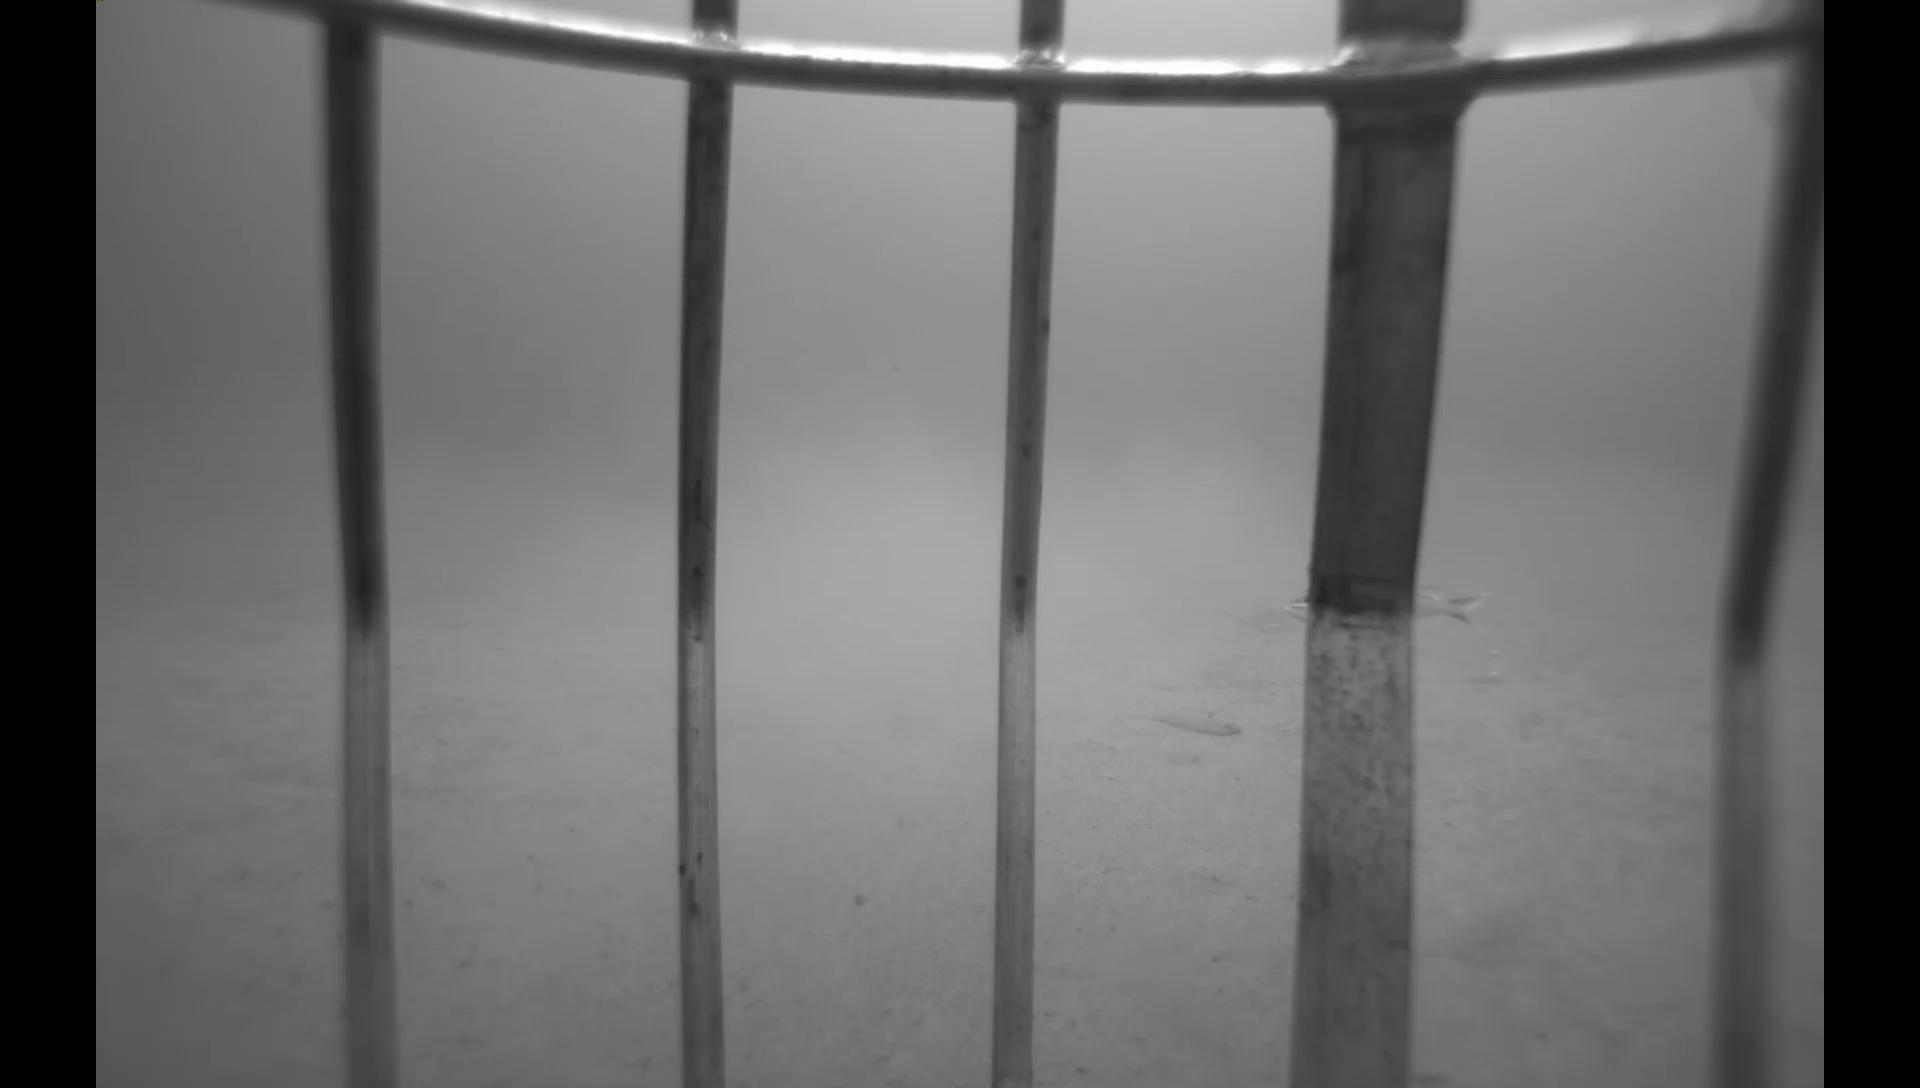CAULOLATILUSCYANOPS-170070101: (1278, 574, 1499, 644)
PRISTIPOMOIDES-170151800: (1213, 593, 1304, 646)
SYACIUM-183011000: (1145, 700, 1250, 742)
